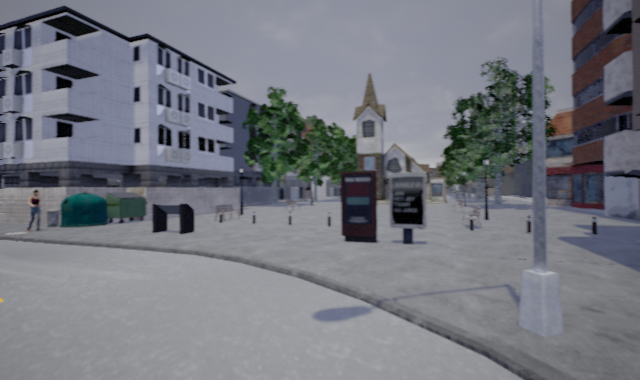pedestrian: (26, 187, 43, 232)
